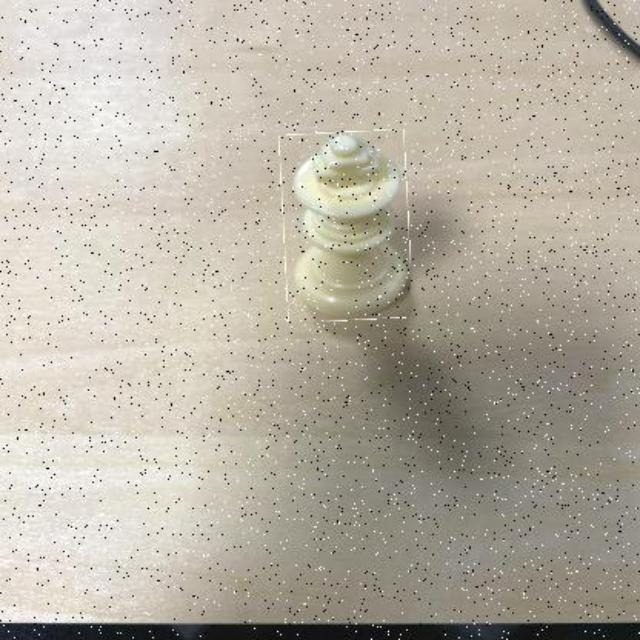white-king: (280, 131, 409, 320)
